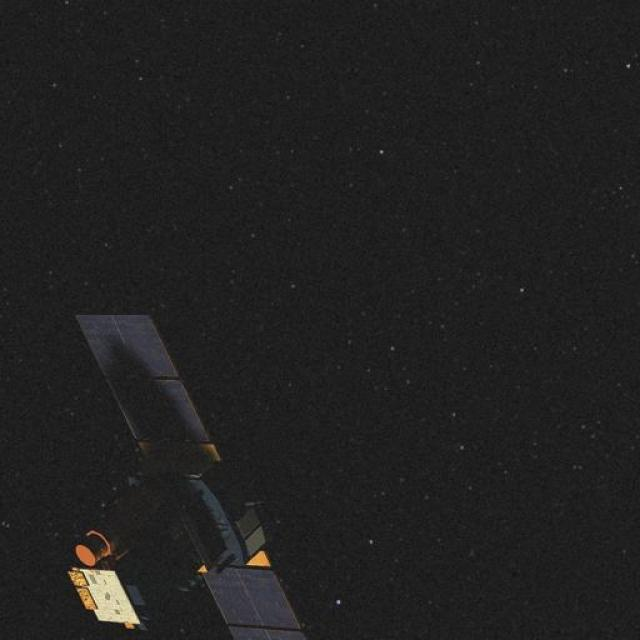soho: (38, 307, 310, 640)
